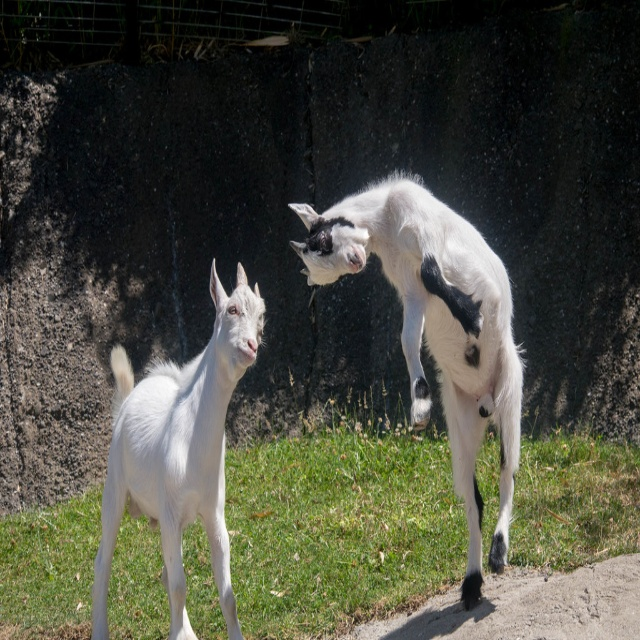Goat: (295, 202, 526, 578), (86, 256, 270, 639)
